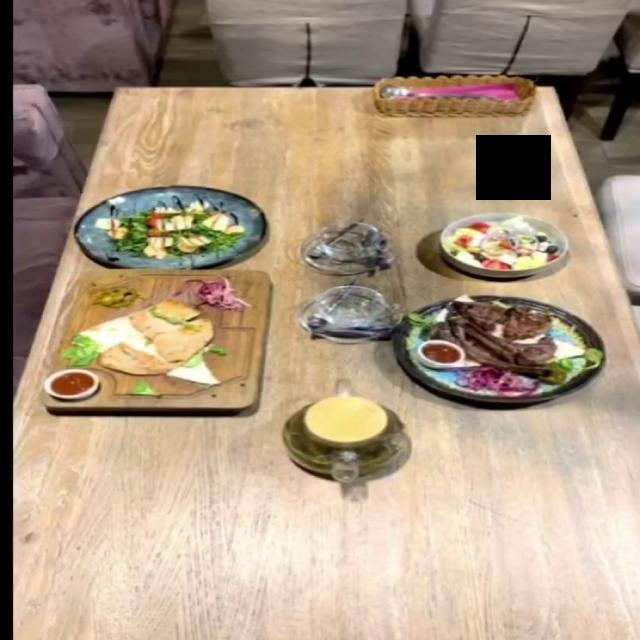meat: (35, 276, 271, 418), (389, 293, 606, 402)
salad: (71, 185, 263, 267), (439, 211, 571, 276)
tea: (280, 393, 409, 480)
